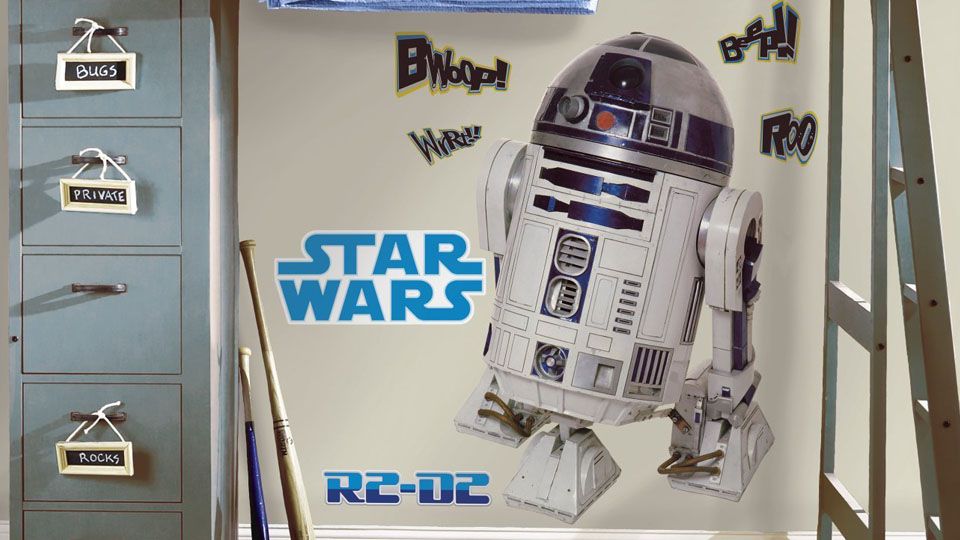r2d2: (495, 34, 766, 509)
